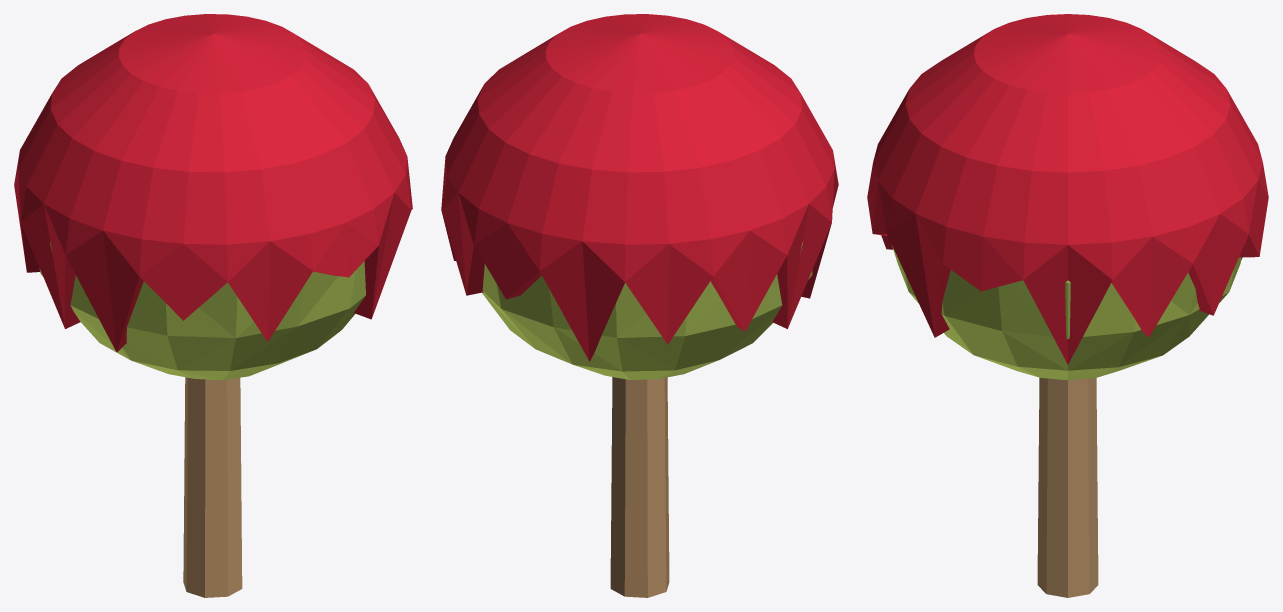
The model's file is CV3_TreeCaramelApple.fbx.
3 views of the same model, side by side, from view 1: azimuth 30°, elevation 25°; view 2: azimuth 150°, elevation 25°; view 3: azimuth 270°, elevation 25° (orthographic).
Visible parts, largest first — view 1: CV3_TreeCaramelApple_Crown, CV3_TreeCaramelApple_CrownApple, CV3_TreeCaramelApple_Trunk; view 2: CV3_TreeCaramelApple_Crown, CV3_TreeCaramelApple_CrownApple, CV3_TreeCaramelApple_Trunk; view 3: CV3_TreeCaramelApple_Crown, CV3_TreeCaramelApple_CrownApple, CV3_TreeCaramelApple_Trunk.
Boxes of the visible parts, <box> form: CV3_TreeCaramelApple_Crown: <box>14,14,412,352</box>; CV3_TreeCaramelApple_CrownApple: <box>39,242,365,380</box>; CV3_TreeCaramelApple_Trunk: <box>183,377,242,597</box>; CV3_TreeCaramelApple_Crown: <box>441,14,838,361</box>; CV3_TreeCaramelApple_CrownApple: <box>482,242,812,379</box>; CV3_TreeCaramelApple_Trunk: <box>610,377,669,597</box>; CV3_TreeCaramelApple_Crown: <box>867,14,1268,364</box>; CV3_TreeCaramelApple_CrownApple: <box>892,245,1241,380</box>; CV3_TreeCaramelApple_Trunk: <box>1037,377,1098,597</box>.
Bounding box in the file's own units: 15.43 × 23.96 × 15.83.
